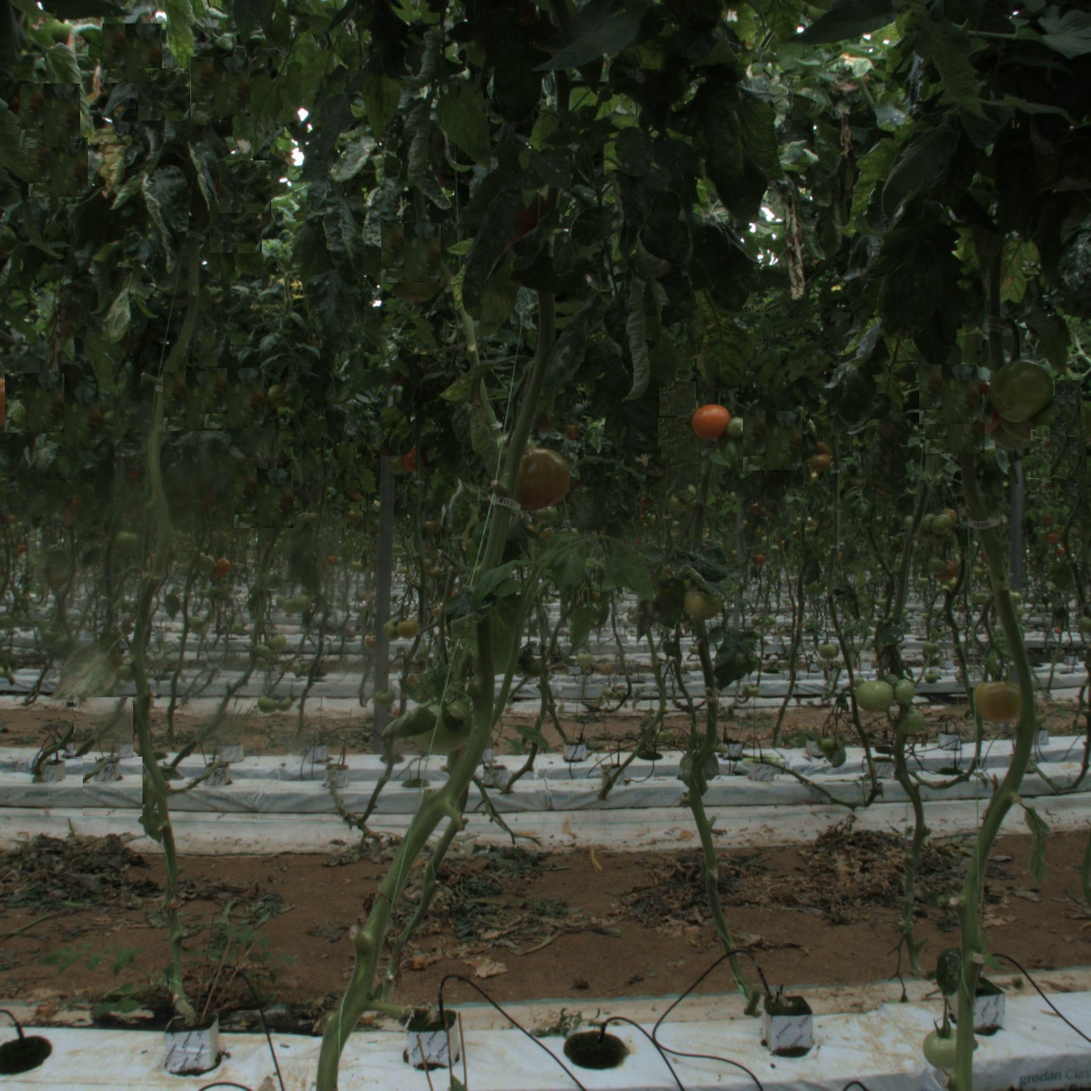fully-ripe: (694, 405, 729, 440)
semi-ripe: (507, 446, 572, 510), (971, 675, 1021, 725)
unripe: (989, 358, 1053, 422), (925, 1029, 966, 1070), (684, 584, 723, 624), (857, 678, 892, 713)
